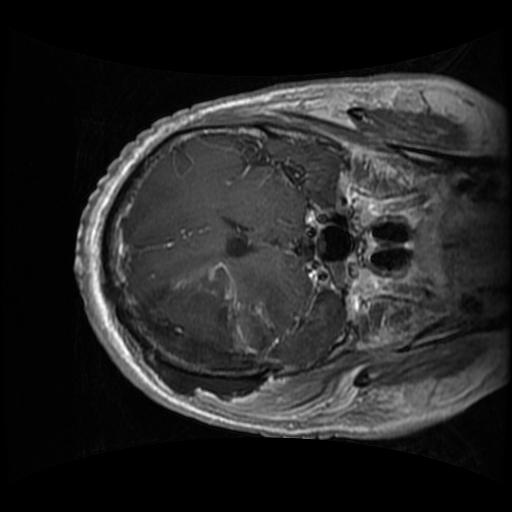glioma: (129, 262, 283, 373)
